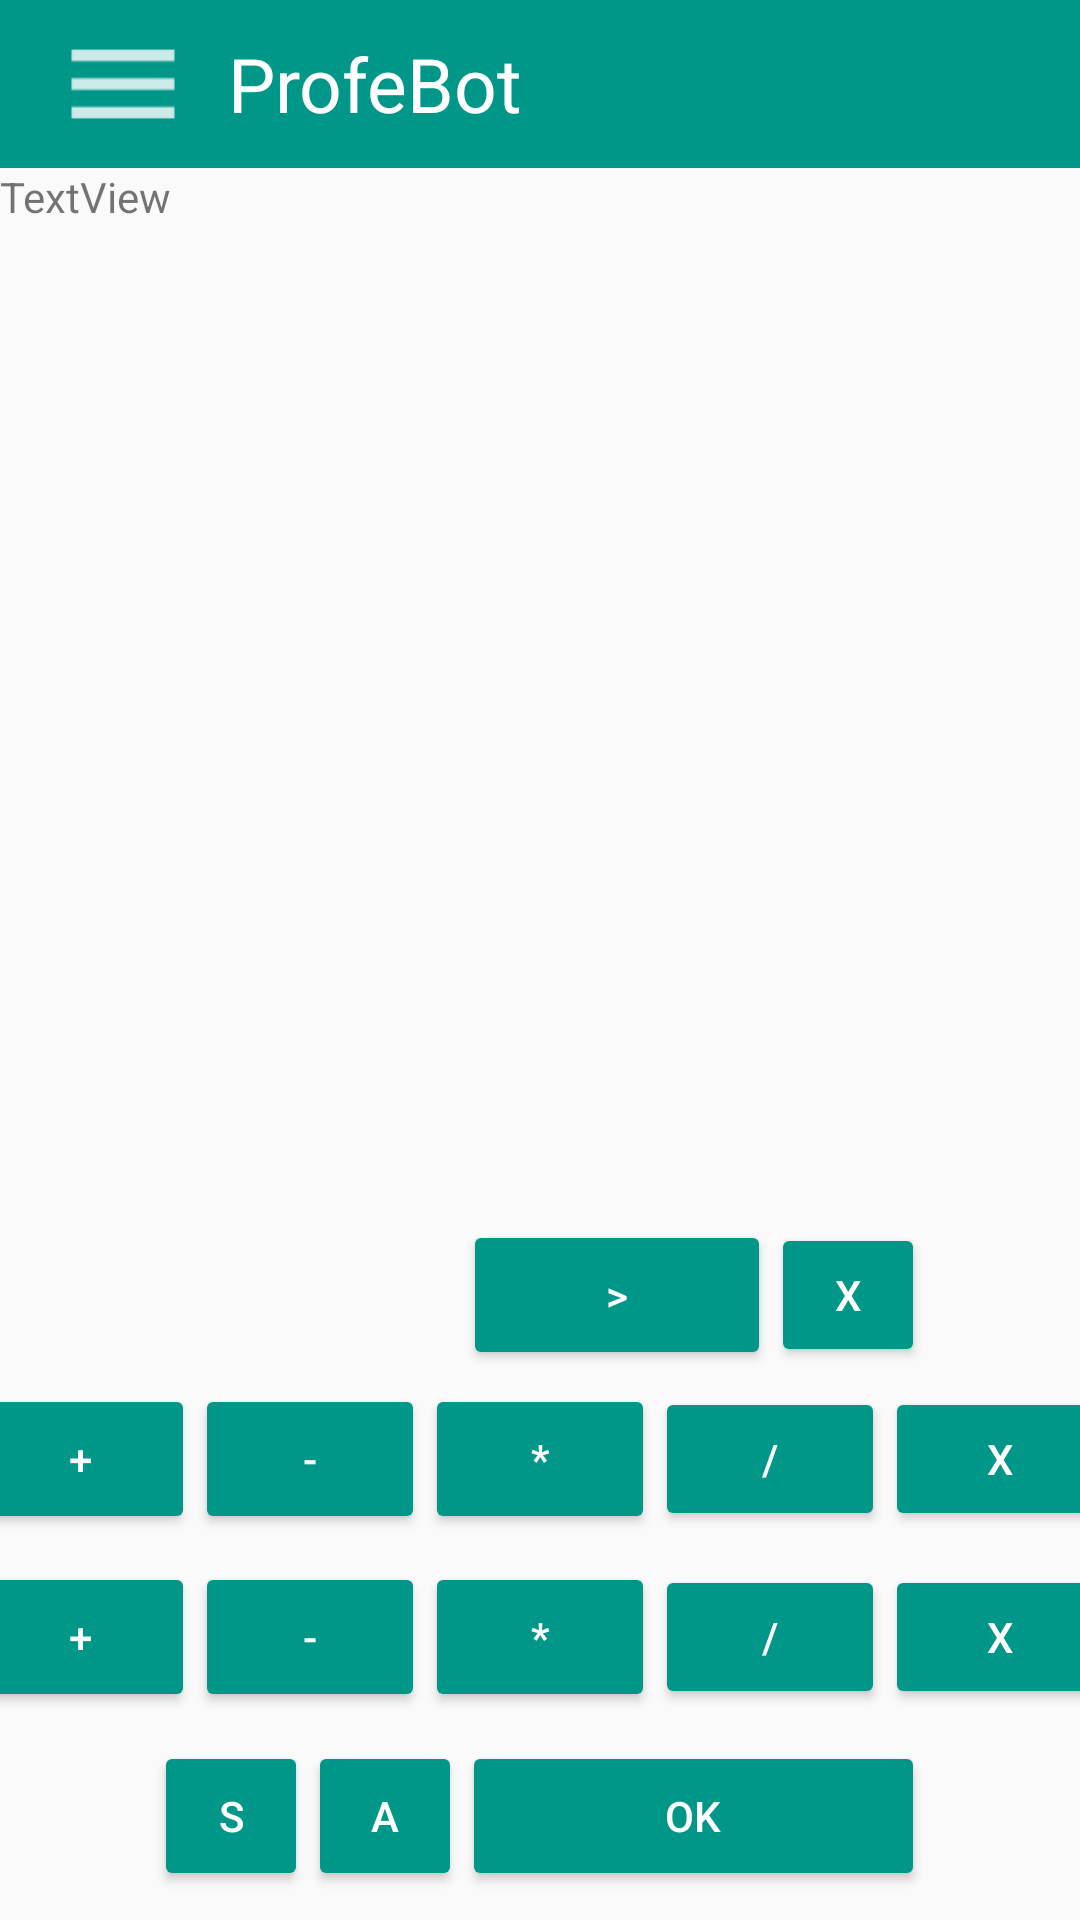

Where icons sit on this 1080 × 1920 app screen, as (x1, y1, x2, y2):
bar: (71, 49, 175, 119)
